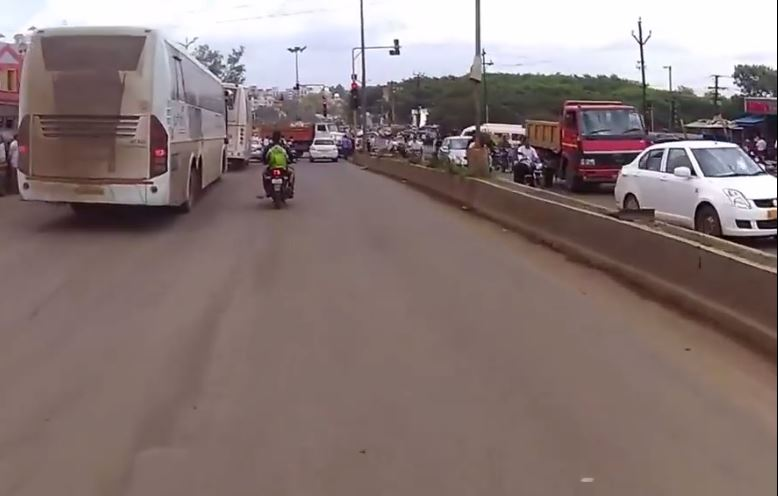car: (609, 128, 778, 242), (434, 130, 476, 171), (306, 131, 342, 170)
